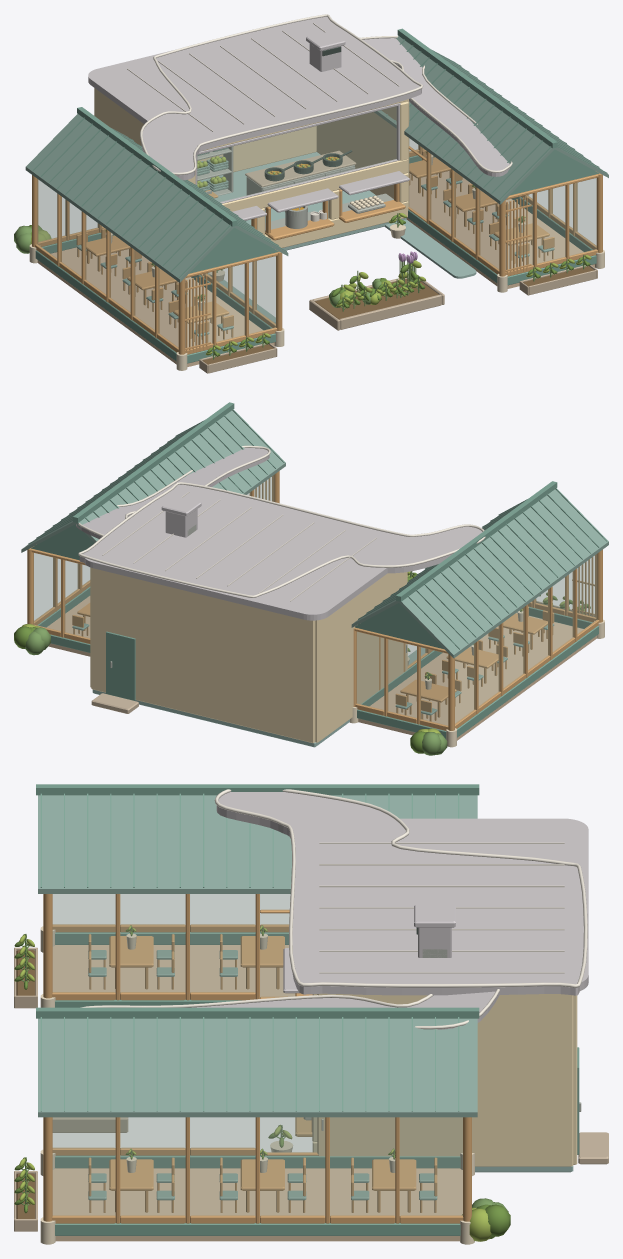
3 views of the same model, one above another, from view 1: azimuth 30°, elevation 25°; view 2: azimuth 150°, elevation 25°; view 3: azimuth 270°, elevation 25° (orthographic). The views are drawn at different scales.
Parts seen in each view (by area): view 1: R 两侧薄荷双坡屋顶, A 餐亭侧玻璃, R 中央连续曲边金属顶, A 餐亭端玻璃, A 一整面观察玻璃, S 两侧餐亭内地板, L 花池, R 餐亭屋面瓦缝, A 明厨两侧墙, A 餐亭矮墙, R 后部厨房金属顶, R 侧廊弯曲低金属檐 (+28 smaller); view 2: A 后勤厨房背墙, R 两侧薄荷双坡屋顶, R 中央连续曲边金属顶, A 餐亭端玻璃, A 餐亭侧玻璃, A 明厨两侧墙, S 两侧餐亭内地板, R 后部厨房金属顶, R 餐亭屋面瓦缝, A 餐亭矮墙, R 餐亭绿屋脊, A 餐亭薄荷山墙 (+14 smaller); view 3: A 餐亭侧玻璃, R 两侧薄荷双坡屋顶, R 中央连续曲边金属顶, S 两侧餐亭内地板, A 明厨两侧墙, A 餐亭矮墙, R 餐亭绿屋脊, R 后部厨房金属顶, I 双翼用餐桌, R 餐亭屋面瓦缝, I 餐椅, R 连续金属卷边 (+14 smaller).
Part boxes in pixels (bbox=[...]): R 两侧薄荷双坡屋顶: bbox=[25, 35, 608, 282]; A 餐亭侧玻璃: bbox=[35, 138, 600, 352]; R 中央连续曲边金属顶: bbox=[141, 16, 421, 180]; A 餐亭端玻璃: bbox=[38, 139, 599, 354]; A 一整面观察玻璃: bbox=[195, 103, 400, 203]; S 两侧餐亭内地板: bbox=[37, 171, 594, 366]; L 花池: bbox=[199, 265, 597, 373]; R 餐亭屋面瓦缝: bbox=[32, 39, 607, 277]; A 明厨两侧墙: bbox=[94, 88, 409, 206]; A 餐亭矮墙: bbox=[35, 154, 596, 363]; R 后部厨房金属顶: bbox=[88, 50, 189, 123]; R 侧廊弯曲低金属檐: bbox=[362, 38, 509, 176]; A 后勤厨房背墙: bbox=[91, 568, 315, 742]; R 两侧薄荷双坡屋顶: bbox=[21, 409, 608, 658]; R 中央连续曲边金属顶: bbox=[79, 484, 482, 595]; A 餐亭端玻璃: bbox=[30, 477, 596, 730]; A 餐亭侧玻璃: bbox=[30, 475, 599, 728]; A 明厨两侧墙: bbox=[90, 567, 407, 742]; S 两侧餐亭内地板: bbox=[46, 596, 596, 740]; R 后部厨房金属顶: bbox=[84, 557, 387, 620]; R 餐亭屋面瓦缝: bbox=[28, 409, 607, 649]; A 餐亭矮墙: bbox=[37, 586, 598, 739]; R 餐亭绿屋脊: bbox=[73, 402, 557, 601]; A 餐亭薄荷山墙: bbox=[31, 524, 443, 648]; A 餐亭侧玻璃: bbox=[52, 894, 463, 1223]; R 两侧薄荷双坡屋顶: bbox=[38, 795, 477, 1117]; R 中央连续曲边金属顶: bbox=[216, 792, 583, 995]; S 两侧餐亭内地板: bbox=[52, 945, 462, 1241]; A 明厨两侧墙: bbox=[317, 993, 573, 1166]; A 餐亭矮墙: bbox=[55, 932, 460, 1235]; R 餐亭绿屋脊: bbox=[36, 784, 479, 1018]; R 后部厨房金属顶: bbox=[396, 818, 588, 990]; I 双翼用餐桌: bbox=[109, 936, 416, 1212]; R 餐亭屋面瓦缝: bbox=[40, 793, 459, 1111]; I 餐椅: bbox=[88, 934, 437, 1212]; R 连续金属卷边: bbox=[214, 789, 587, 987].
Size of the model in its own units: 20.82 by 7.5 by 17.45.
